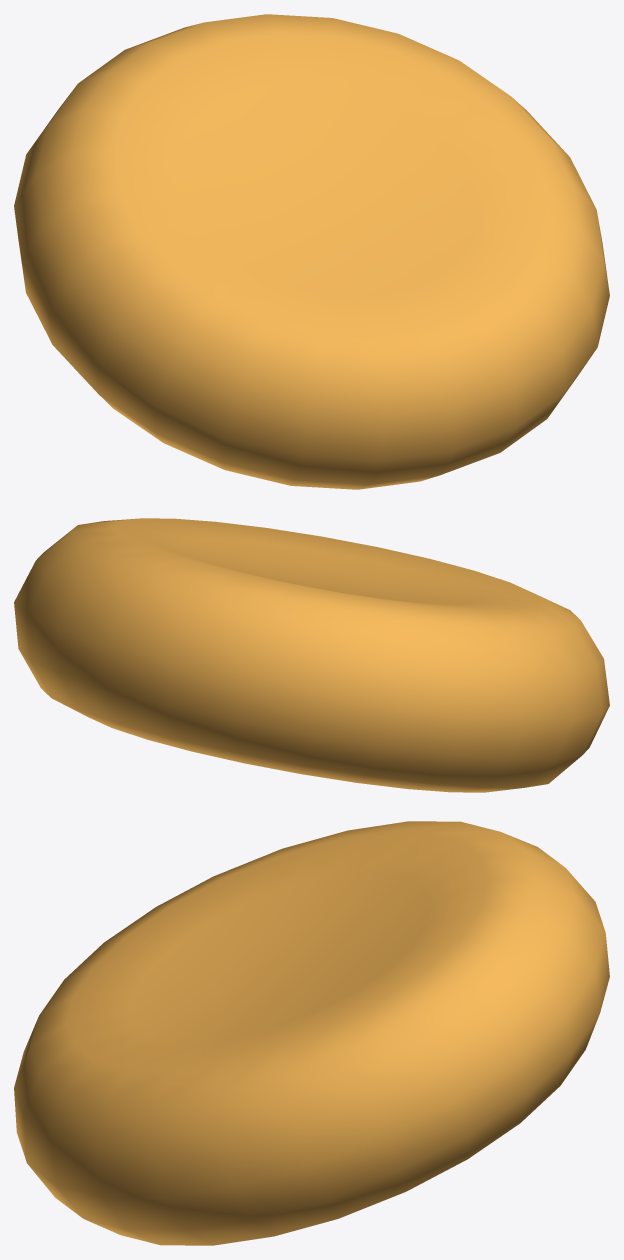
The model's file is ref_bfpumpkinpie.glb.
3 renders of one model, top to bottom at view 1: azimuth 30°, elevation 25°; view 2: azimuth 150°, elevation 25°; view 3: azimuth 270°, elevation 25°, orthographic. The views are drawn at different scales.
Visible parts, largest first — view 1: ref_bfpumpkinpie_part0; view 2: ref_bfpumpkinpie_part0; view 3: ref_bfpumpkinpie_part0.
Boxes of the visible parts, x1,y1,x2,y2 form: ref_bfpumpkinpie_part0: (14,14,609,489); ref_bfpumpkinpie_part0: (14,518,609,792); ref_bfpumpkinpie_part0: (14,821,609,1245).
Size of the model in its own units: 1 by 0.5484 by 0.9477.
